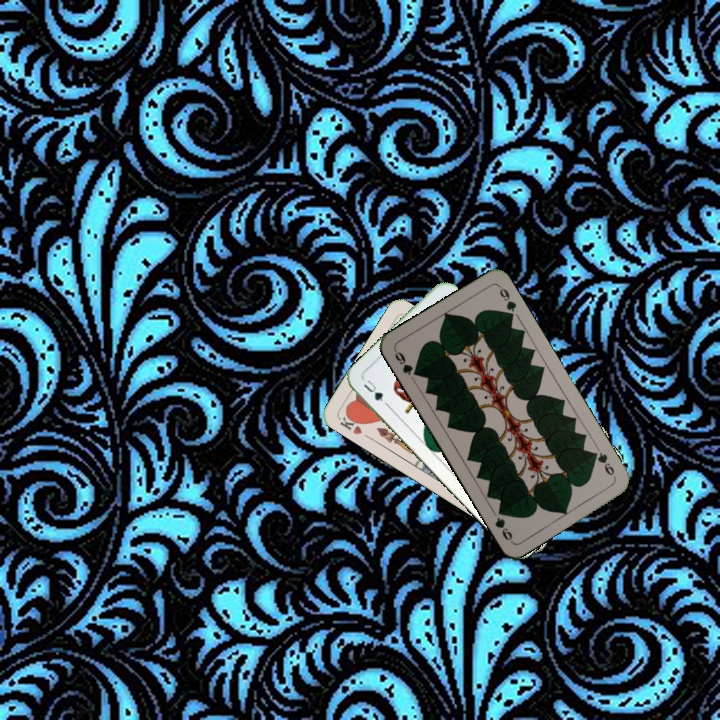G9: (390, 346, 422, 379), (588, 448, 618, 480)
GU: (359, 376, 386, 404)
HK: (336, 409, 365, 437)
